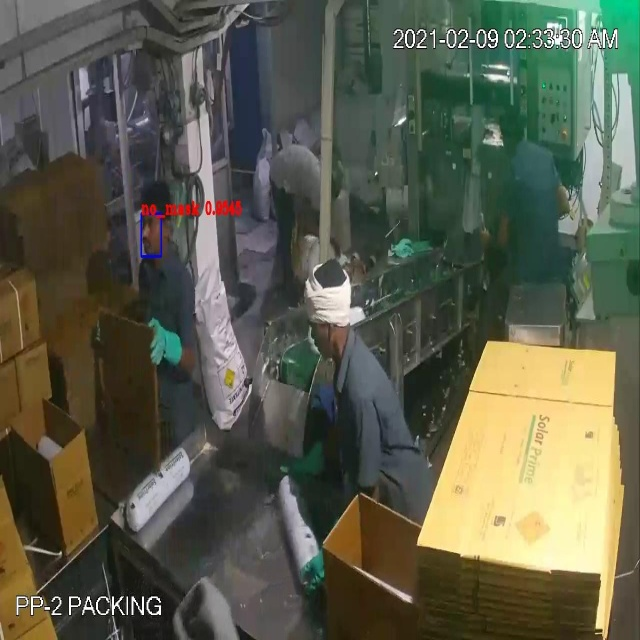Guantes: (276, 423, 335, 495), (144, 306, 187, 387)
